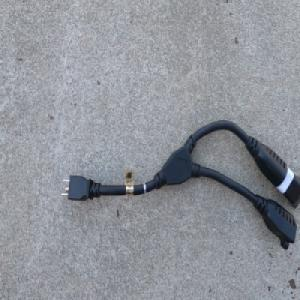Wire: (59, 119, 300, 251)
